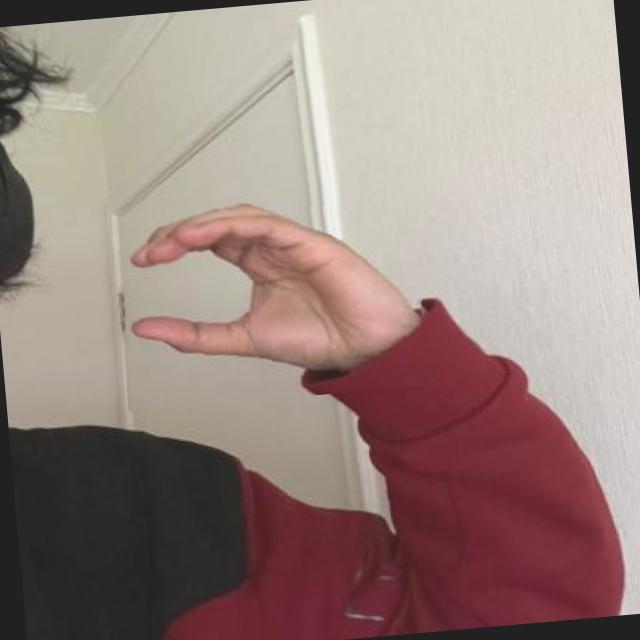C: (110, 173, 432, 411)
